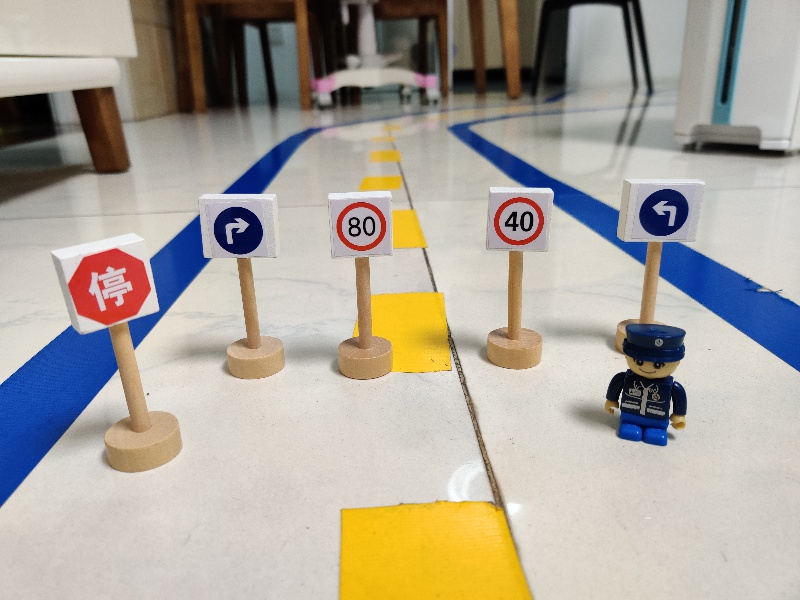limit_40: (484, 185, 557, 253)
limit_80: (322, 189, 397, 259)
person: (602, 321, 692, 450)
stop: (43, 228, 160, 337)
turn_left: (613, 176, 703, 243)
turn_right: (193, 194, 283, 260)
